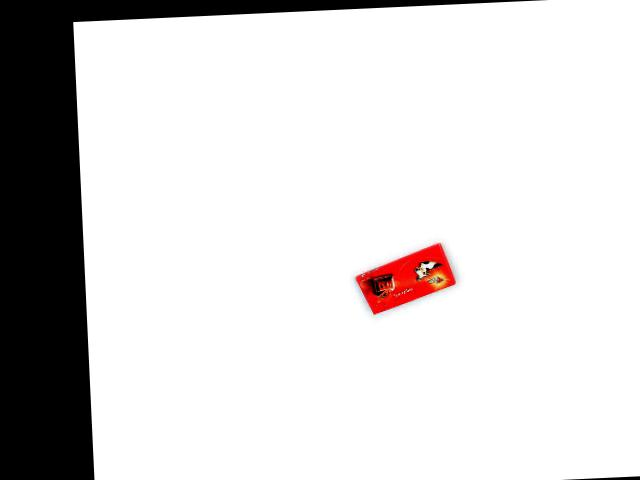chocolate: (353, 242, 455, 316)
